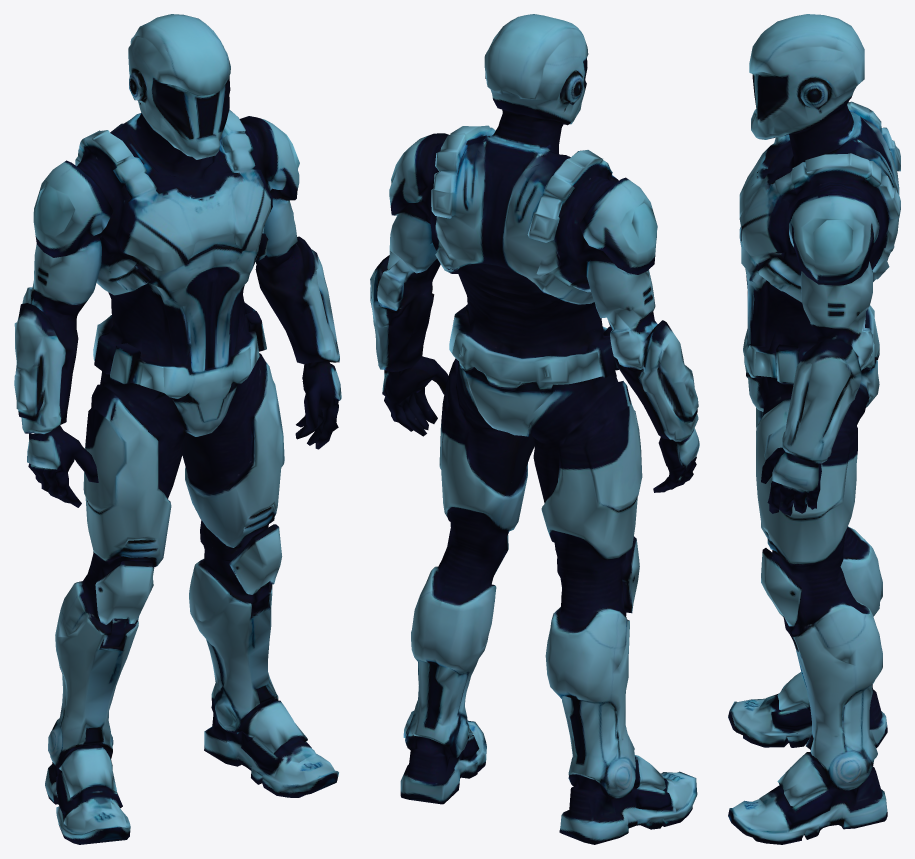
File: Player3D 2.glb
3 views of the same model, side by side, from view 1: azimuth 30°, elevation 25°; view 2: azimuth 150°, elevation 25°; view 3: azimuth 270°, elevation 25° (orthographic). The views are drawn at different scales.
Visible parts, largest first — view 1: tripo_node_37cba1b4-8981-4466-970c-23d317de2c5b; view 2: tripo_node_37cba1b4-8981-4466-970c-23d317de2c5b; view 3: tripo_node_37cba1b4-8981-4466-970c-23d317de2c5b.
Boxes of the visible parts, left/top/right/bottom form: tripo_node_37cba1b4-8981-4466-970c-23d317de2c5b: left=14, top=14, right=341, bottom=844; tripo_node_37cba1b4-8981-4466-970c-23d317de2c5b: left=370, top=14, right=699, bottom=844; tripo_node_37cba1b4-8981-4466-970c-23d317de2c5b: left=728, top=14, right=900, bottom=844.
Bounding box in the file's own units: 0.4255 × 1 × 0.2059.
1 material, 1 textured.
